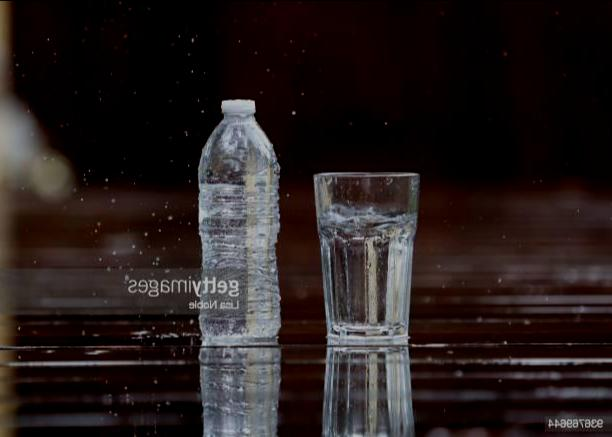bottle: (189, 90, 288, 348)
